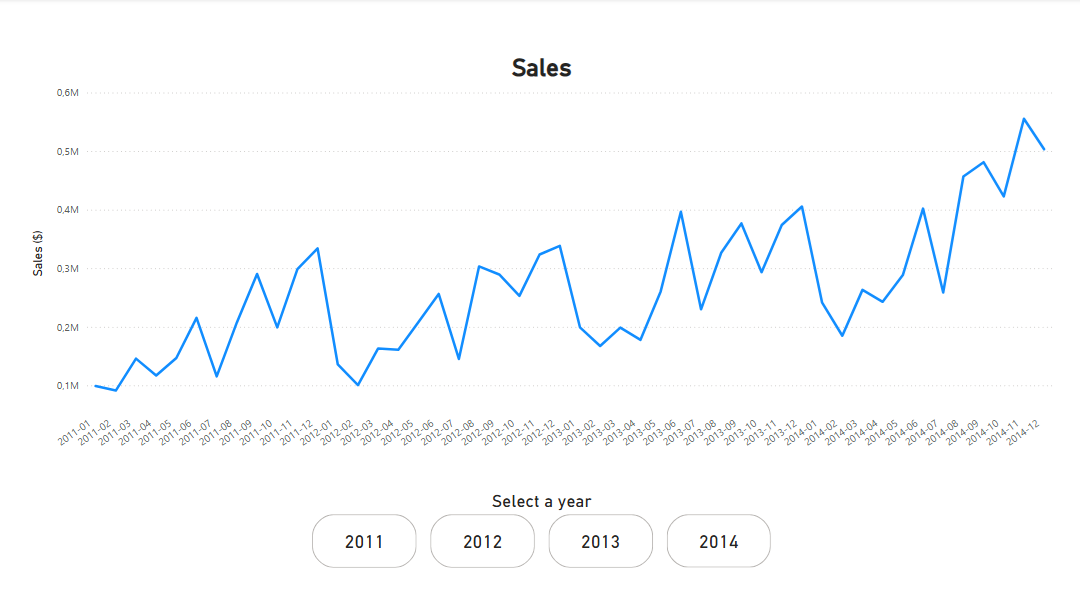

The page's visual inventory and layout, read from the dashboard file:
{"tool":"powerbi","page":{"name":"Sales Trends","canvas":[1280,720],"ordinal":1},"visuals":[{"type":"lineChart","title":"Sales","fields":{"Y":["Sum(Global_Superstore2.Sales)"],"Category":["Global_Superstore2.Year-Month"]},"box":[33.8,64.8,1212.6,498.9],"z":0},{"type":"advancedSlicerVisual","title":"Select a year","fields":{"Values":["Global_Superstore2.Order Date.Variation.Date Hierarchy.Year"]},"box":[365,579.8,550.4,97.1],"z":1000}]}

Visuals, with their boxes in screenshot pixels (x1, y1, x2, y2), scaled from the page's 1280x720 canvas onto the 1080x605 screenshot:
"Sales" lineChart: rect(29, 54, 1052, 474)
"Select a year" advancedSlicerVisual: rect(308, 487, 772, 569)
